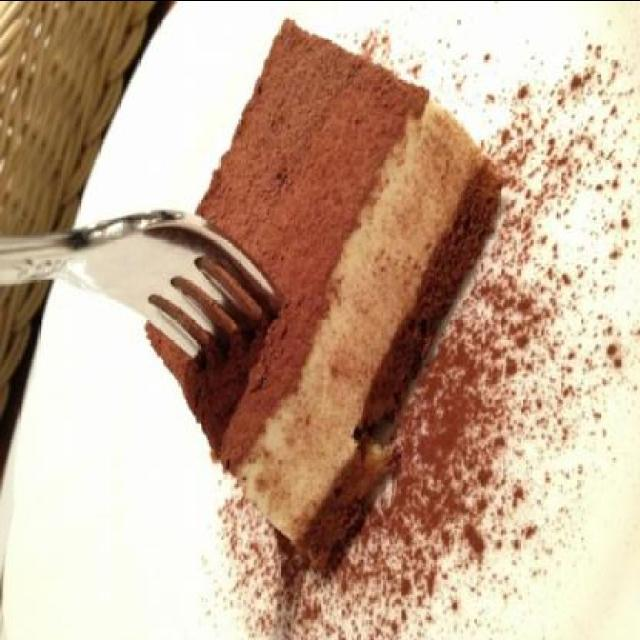Tiramisu: (152, 56, 482, 496)
